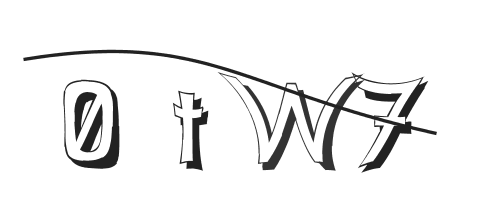0: (59, 73, 124, 171)
7: (348, 68, 428, 173)
W: (216, 67, 362, 171)
t: (168, 85, 210, 177)
